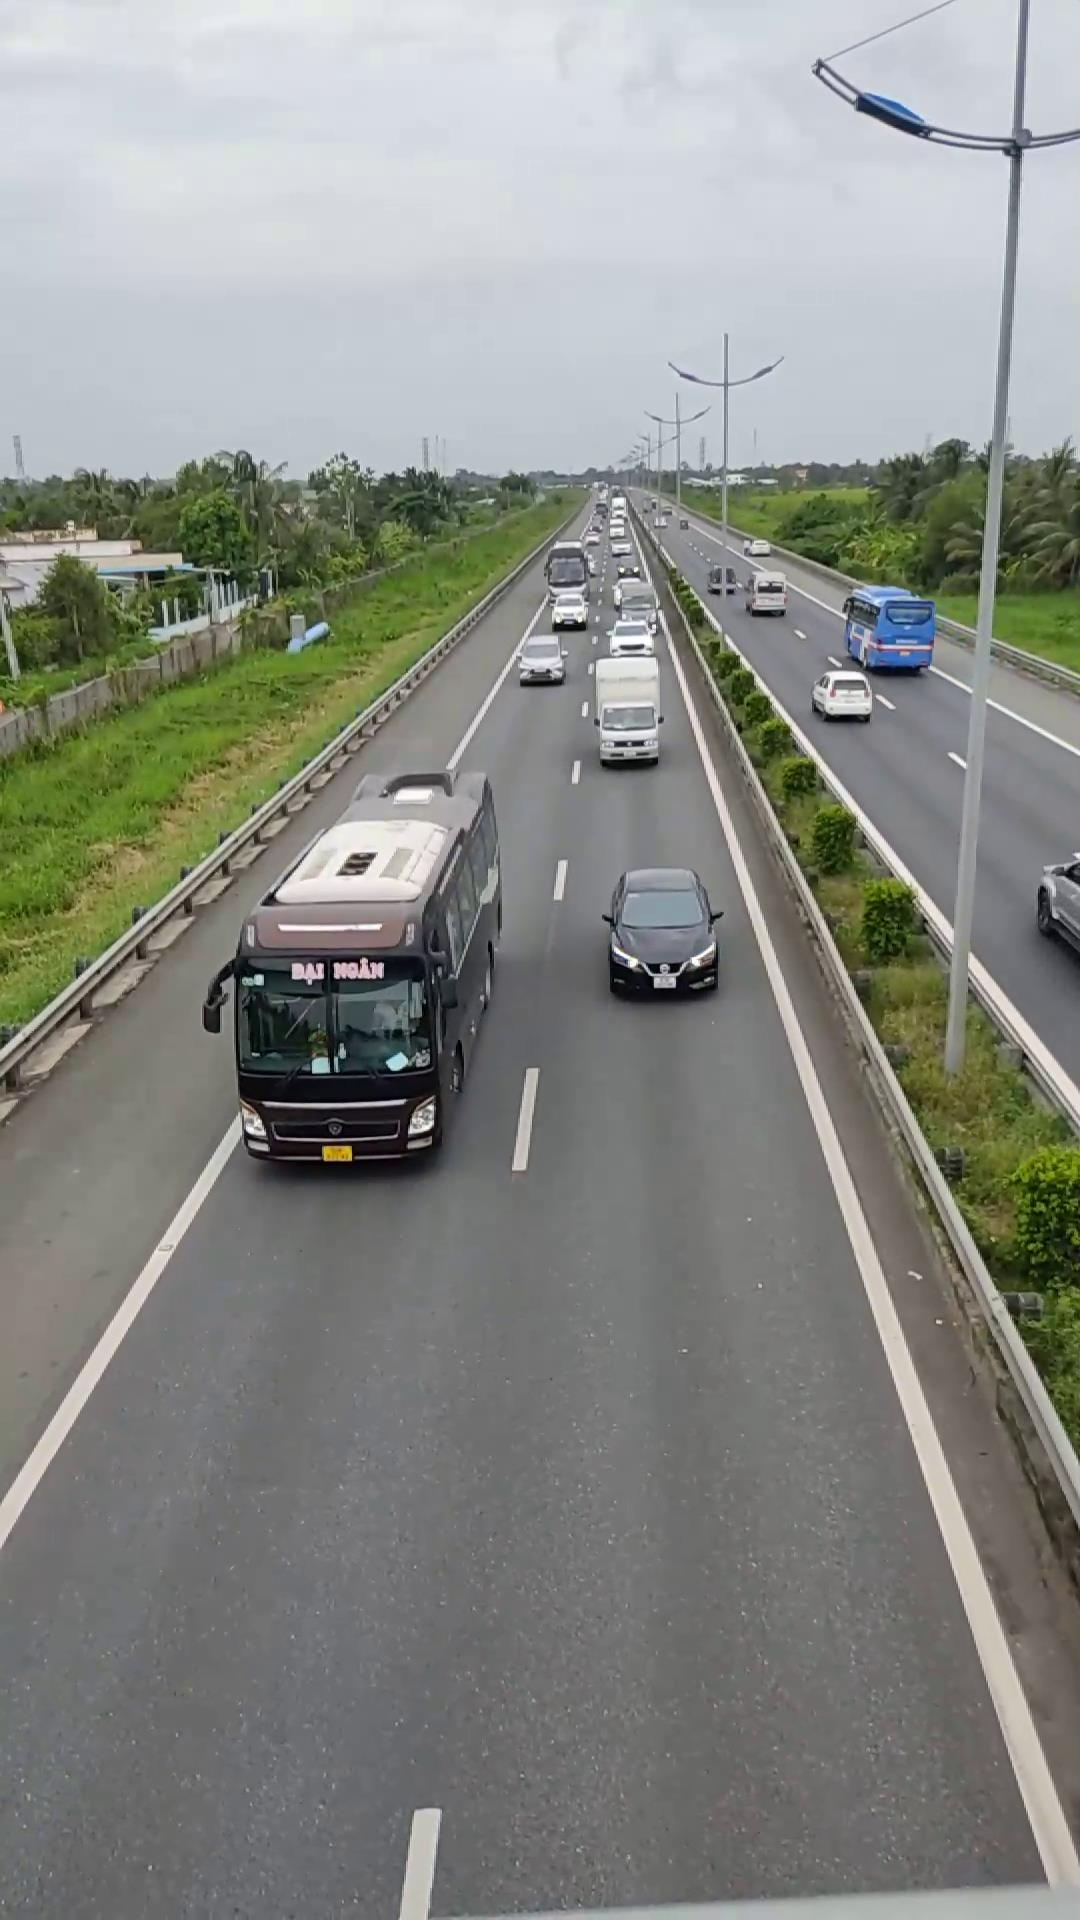bus: (212, 766, 506, 1168)
car: (603, 864, 723, 997)
truck: (589, 647, 665, 766), (843, 582, 938, 673)
